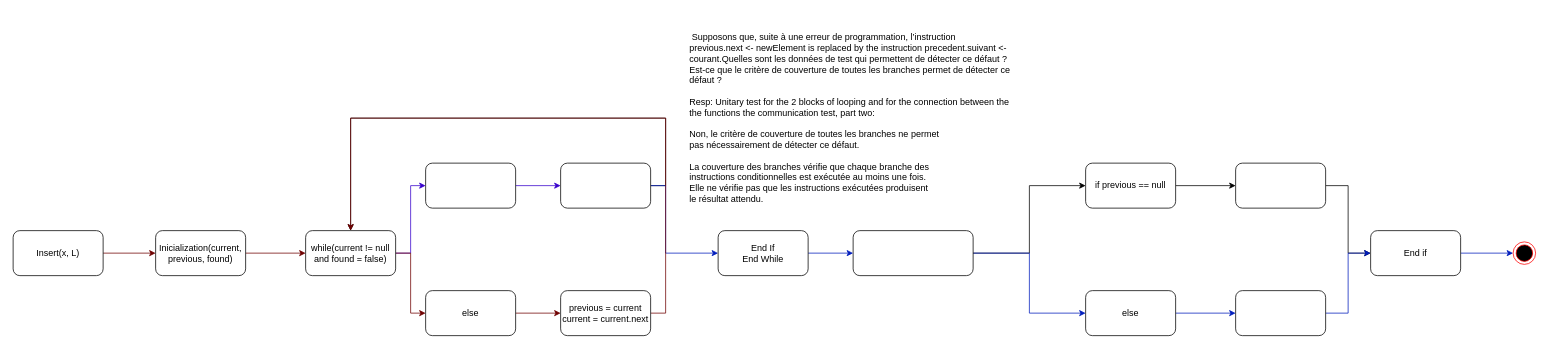
Image size: 1549x349. Some labels were removed from this diagram. The shapes that lost their labels are listed below. From the top down, each one's centre as x and y in pixels, then its label:
At (470,185): "if current.info >= x".
At (605,185): "found = true".
At (1280,185): "L = newElement".
At (912,253): "Allocate(nextElement) newElement.info = x newElement.current = current".
At (1280,313): "precedent.suivant = courant".
